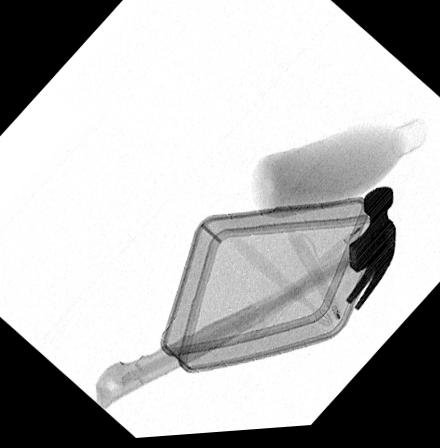Hammer: (94, 191, 396, 411)
